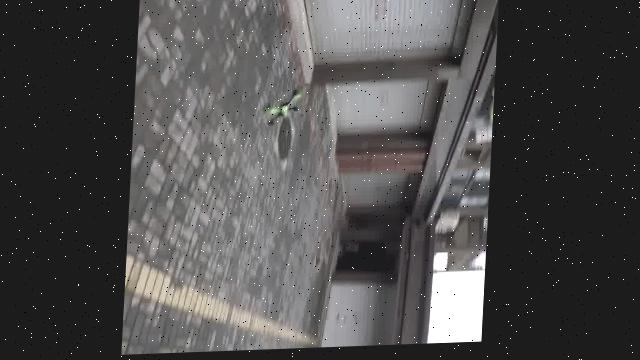drone: (263, 84, 311, 133)
